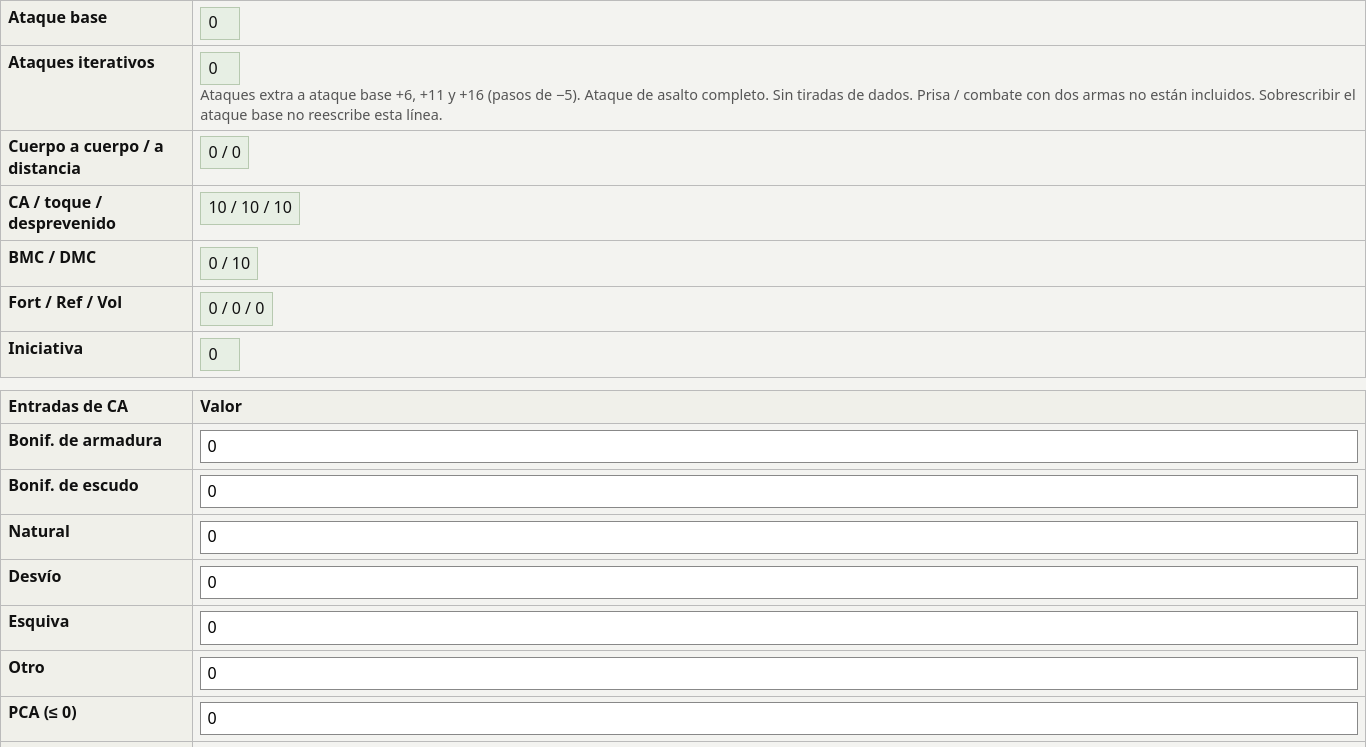
Test: CombatPanel › uses Spanish AC labels from es.json
The image size is (1366, 747).
Replace the text in the number field named "Bonif. de armadura" with "4": (779, 446) [200, 430, 1358, 463]
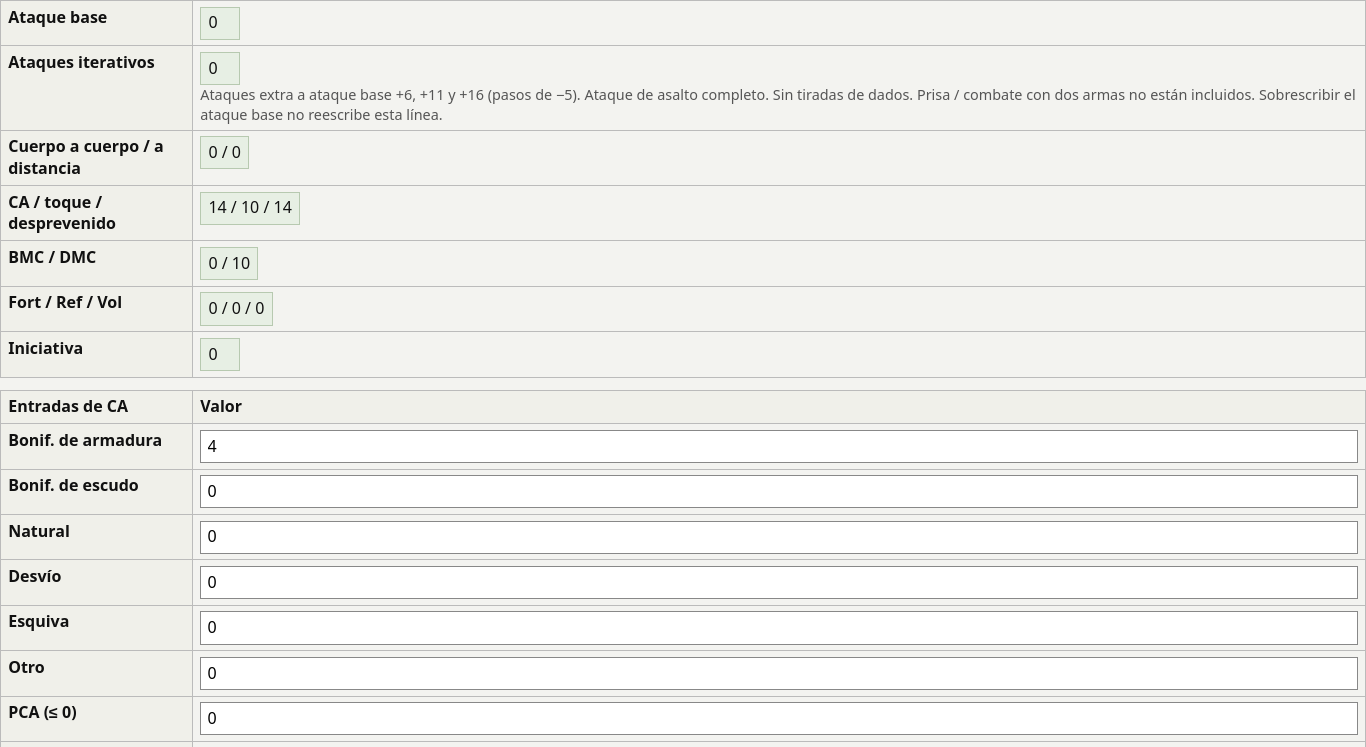
expect the text "14 / 10 / 14" is shown: met, box [200, 192, 300, 225]
